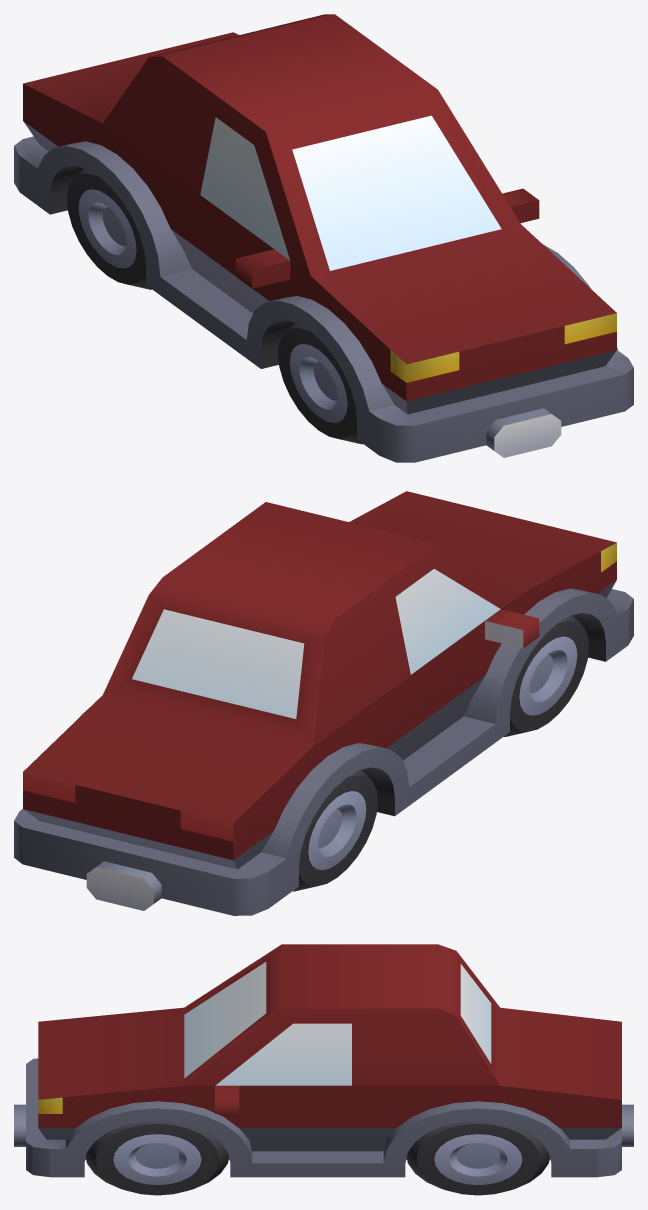
The model's file is sedan-red.glb.
3 renders of one model, top to bottom at view 1: azimuth 30°, elevation 25°; view 2: azimuth 150°, elevation 25°; view 3: azimuth 270°, elevation 25°, orthographic. The views are drawn at different scales.
Parts seen in each view (by area): view 1: sedan; view 2: sedan; view 3: sedan.
Part boxes in pixels (box(x1,y1,x2,y2)): sedan: box(14, 14, 633, 462); sedan: box(14, 491, 633, 915); sedan: box(14, 944, 633, 1195).
Size of the model in its own units: 1.85 by 1.48 by 4.55.
Materials: 1 (1 with a texture image).
